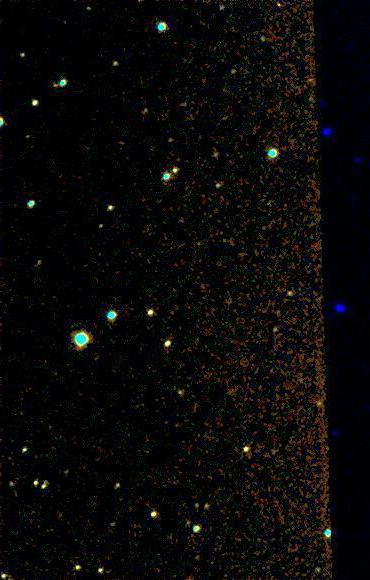star: (265, 0, 295, 20)
